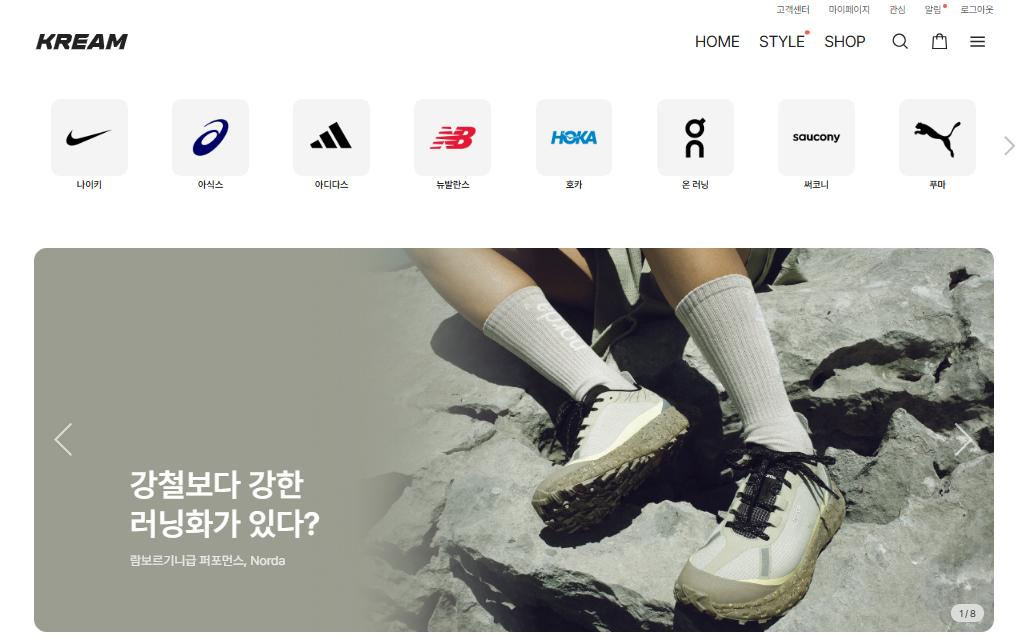button: (417, 96, 494, 175), (53, 101, 129, 180), (170, 96, 246, 175), (303, 98, 379, 177), (539, 96, 615, 175), (654, 95, 730, 174), (794, 99, 870, 178), (889, 97, 965, 176), (695, 30, 741, 49), (761, 31, 807, 50), (821, 33, 867, 52), (829, 0, 872, 19), (774, 0, 813, 19), (956, 0, 995, 19), (888, 32, 922, 51), (880, 0, 909, 19), (918, 0, 946, 19), (928, 32, 952, 51), (965, 32, 987, 51), (999, 137, 1020, 156)
popup: (34, 246, 995, 631)
